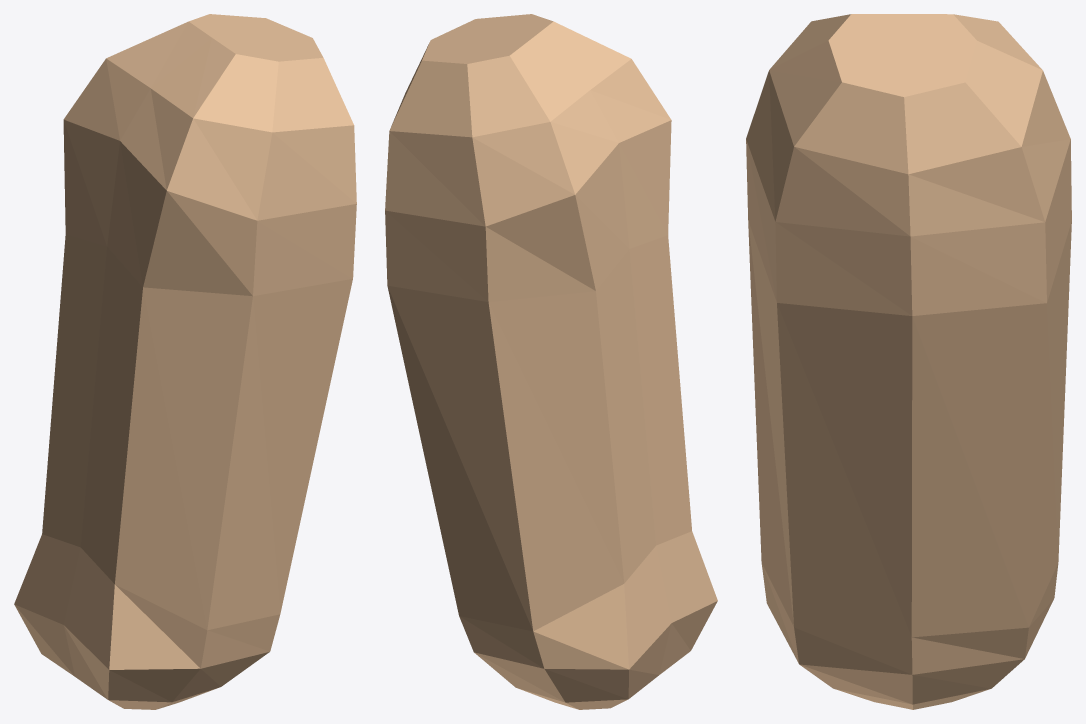
File: RFing21_mesh.dae
3 renders of one model, left to right at view 1: azimuth 30°, elevation 25°; view 2: azimuth 150°, elevation 25°; view 3: azimuth 270°, elevation 25°, orthographic. The views are drawn at different scales.
Parts seen in each view (by area): view 1: RFing21; view 2: RFing21; view 3: RFing21.
Boxes of the visible parts, x1=… form: RFing21: x1=14, y1=14, x2=356, y2=709; RFing21: x1=385, y1=14, x2=717, y2=709; RFing21: x1=746, y1=14, x2=1071, y2=709.
Size of the model in its own units: 0.0196 by 0.0433 by 0.0179.
